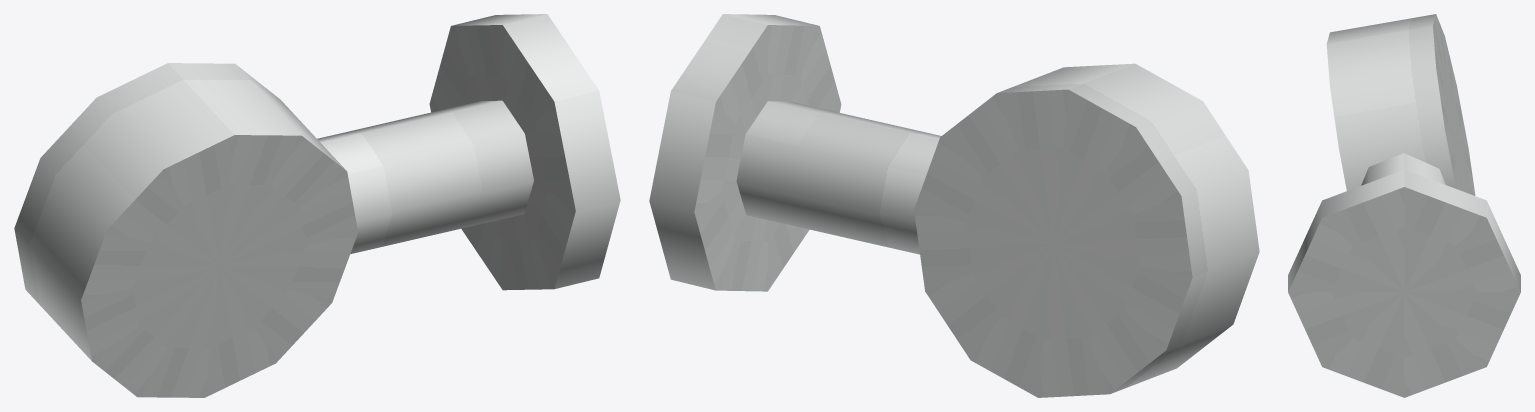
File: nycsignalarm_stub_48.obj
3 renders of one model, left to right at view 1: azimuth 30°, elevation 25°; view 2: azimuth 150°, elevation 25°; view 3: azimuth 270°, elevation 25°, orthographic. The views are drawn at different scales.
Visible parts, largest first — view 1: nycsignalarm_stub_48; view 2: nycsignalarm_stub_48; view 3: nycsignalarm_stub_48.
Boxes of the visible parts, bbox=[...] form: nycsignalarm_stub_48: bbox=[14, 14, 620, 397]; nycsignalarm_stub_48: bbox=[649, 14, 1259, 397]; nycsignalarm_stub_48: bbox=[1288, 14, 1520, 397].
Size of the model in its own units: 0.6908 by 0.4065 by 0.35.
